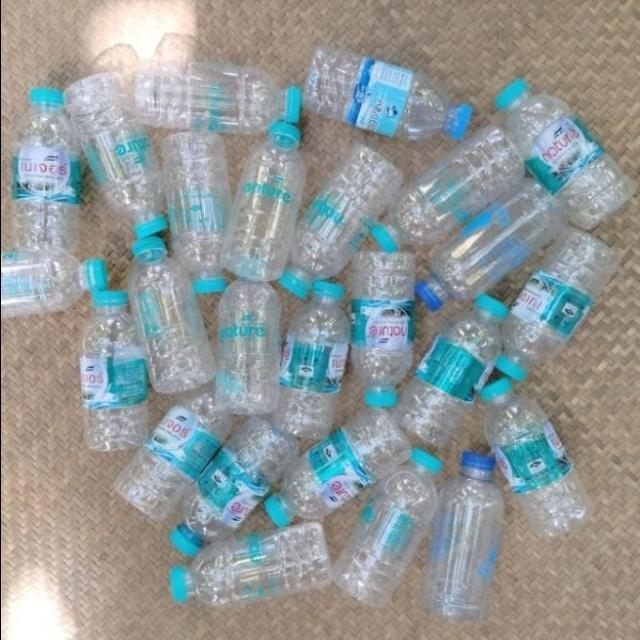PET Bottle: (375, 162, 581, 324), (475, 54, 640, 234), (474, 217, 634, 387), (276, 32, 484, 158), (321, 434, 452, 610), (390, 274, 512, 456), (459, 378, 593, 542), (150, 526, 383, 618), (176, 414, 306, 578), (251, 416, 417, 538), (120, 370, 242, 532), (61, 77, 167, 257), (381, 132, 539, 244), (433, 445, 527, 630), (0, 87, 98, 257), (157, 103, 244, 286), (127, 234, 220, 392), (76, 299, 160, 461), (137, 60, 299, 143), (194, 267, 272, 437), (222, 112, 290, 300), (294, 142, 386, 278), (278, 279, 352, 428), (0, 218, 109, 314), (124, 375, 126, 381)
